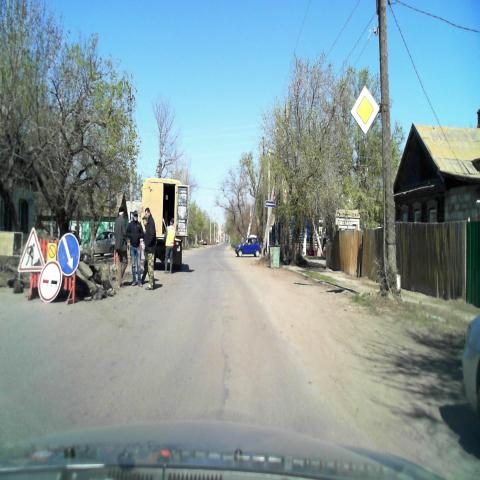4_2_1: (57, 232, 81, 278)
